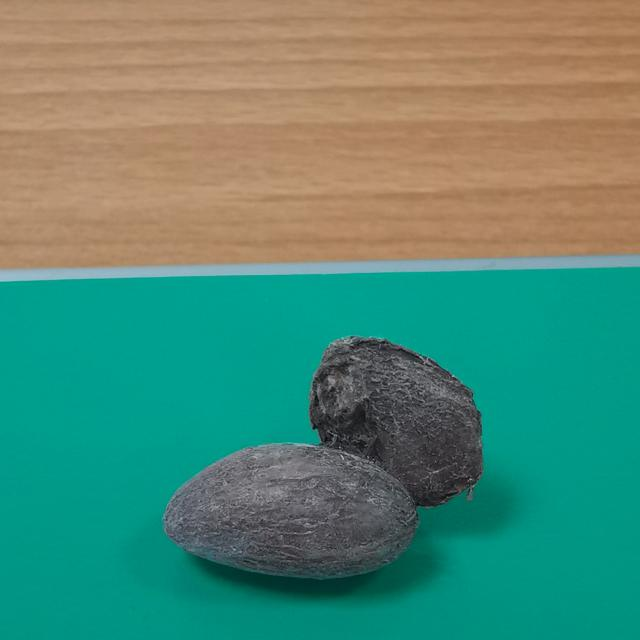Agglomerated_cocoabeans: (84, 314, 558, 630)
